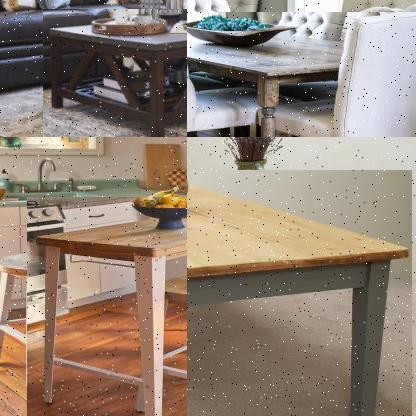table: (187, 170, 414, 415), (27, 197, 186, 415), (187, 12, 415, 136), (42, 9, 186, 136)
